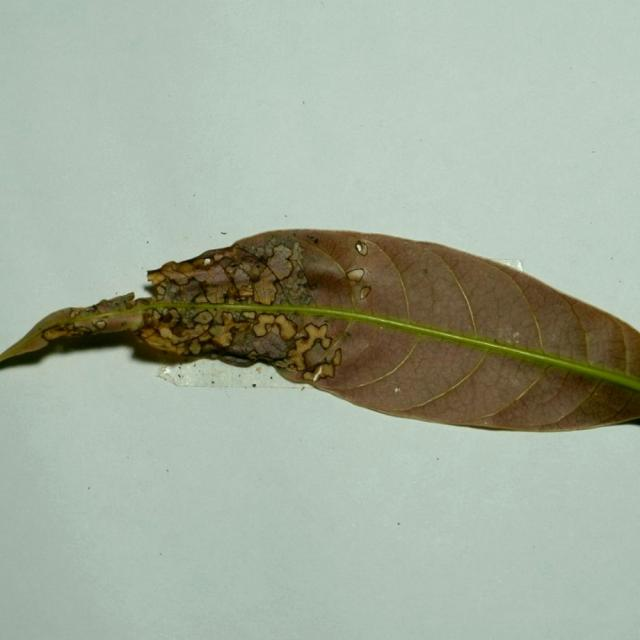Anthracnose: (336, 243, 385, 355), (346, 269, 381, 311), (300, 350, 337, 383), (250, 312, 293, 340), (345, 266, 372, 304), (252, 275, 279, 306), (192, 309, 215, 326), (345, 268, 365, 282), (192, 257, 212, 268), (355, 241, 368, 255), (160, 311, 173, 324), (94, 320, 107, 330), (306, 235, 319, 245), (307, 280, 317, 290)
Mango: (0, 231, 639, 435)
